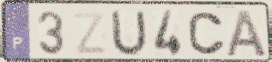3: (36, 9, 66, 57)
4: (152, 8, 184, 59)
A: (224, 9, 269, 59)
C: (186, 10, 227, 57)
U: (110, 8, 149, 58)
Z: (71, 10, 109, 56)
